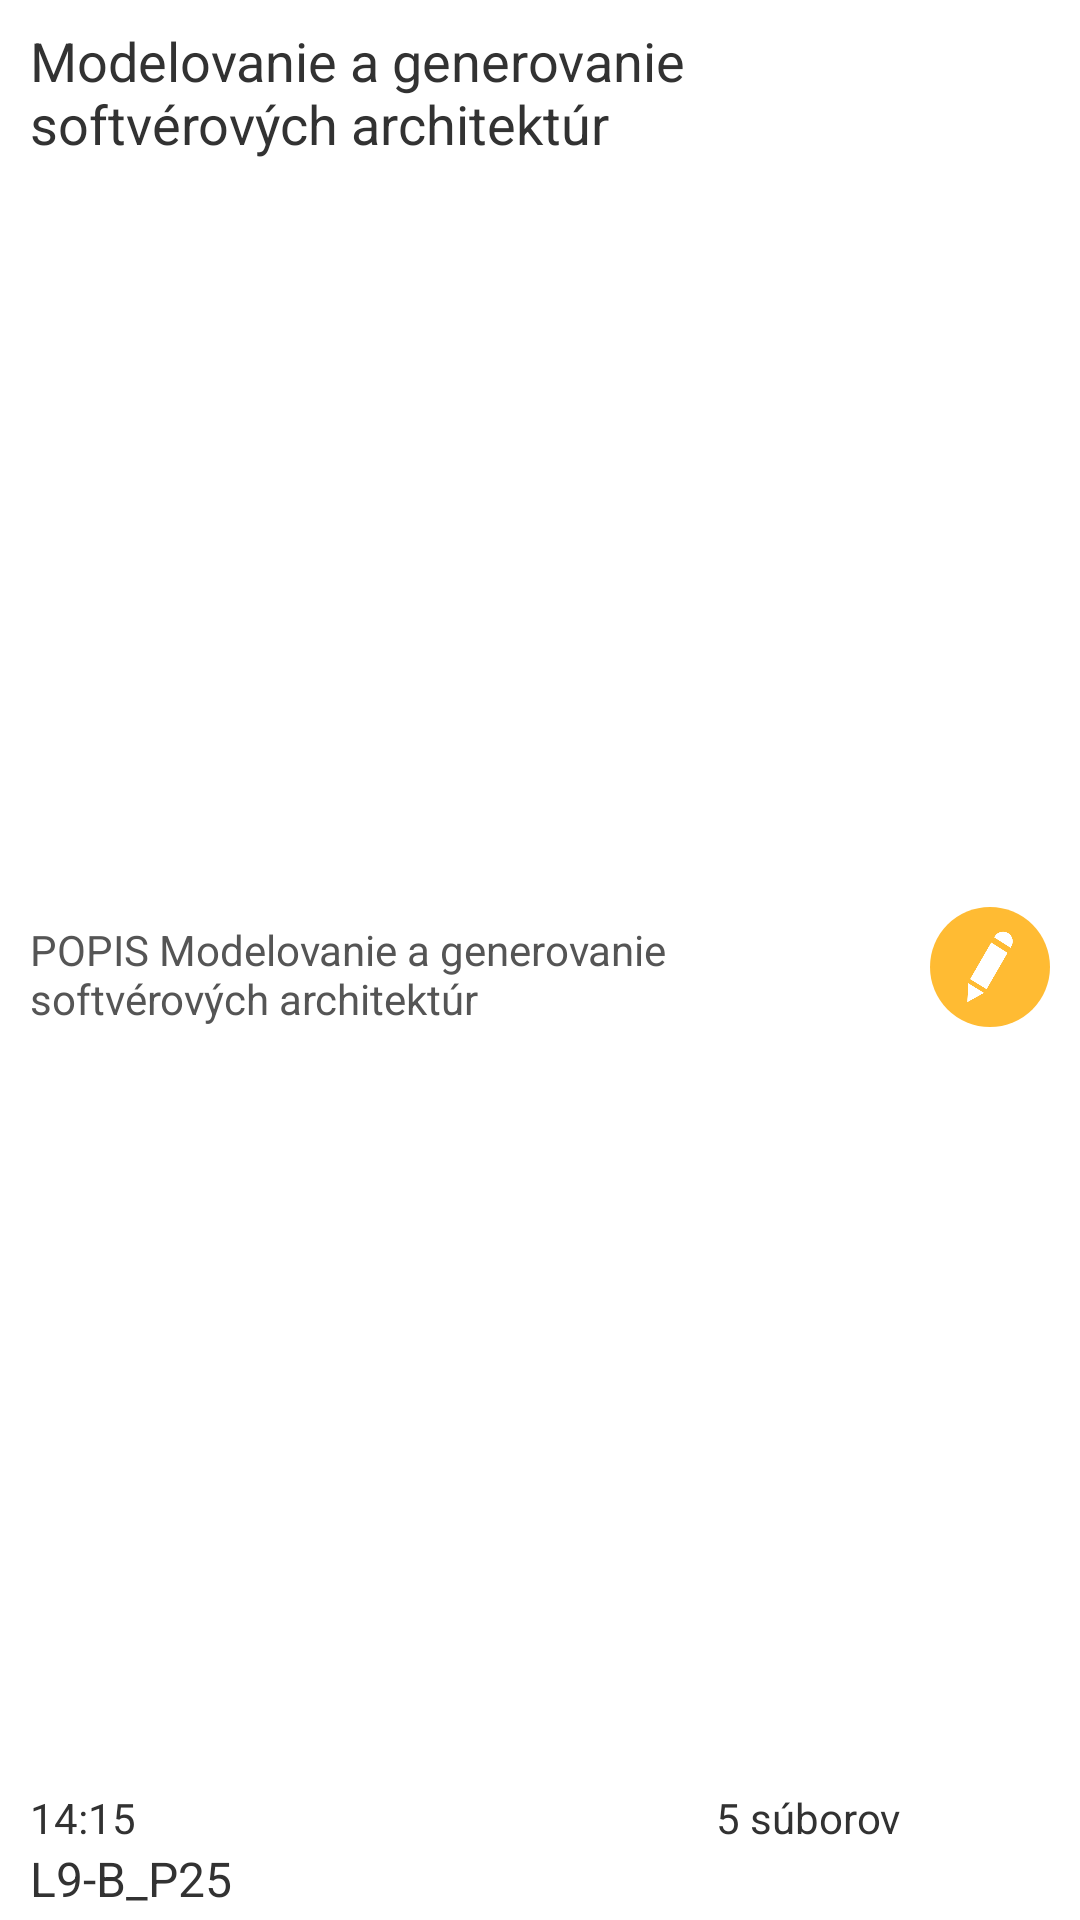

Point at icon controls on the screen. Image size 1080px×1920px, points as point (x, y).
pencil: point (990, 967)
